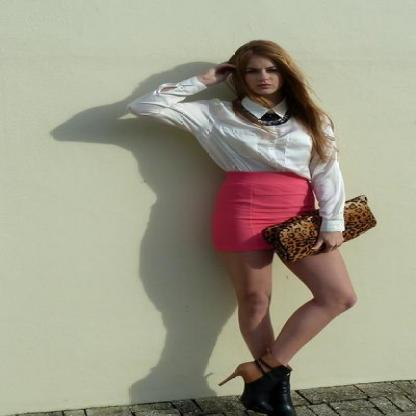bag: (261, 196, 375, 268)
shirt: (143, 76, 346, 232)
shoe: (223, 348, 290, 416)
shorts: (211, 170, 321, 252)
